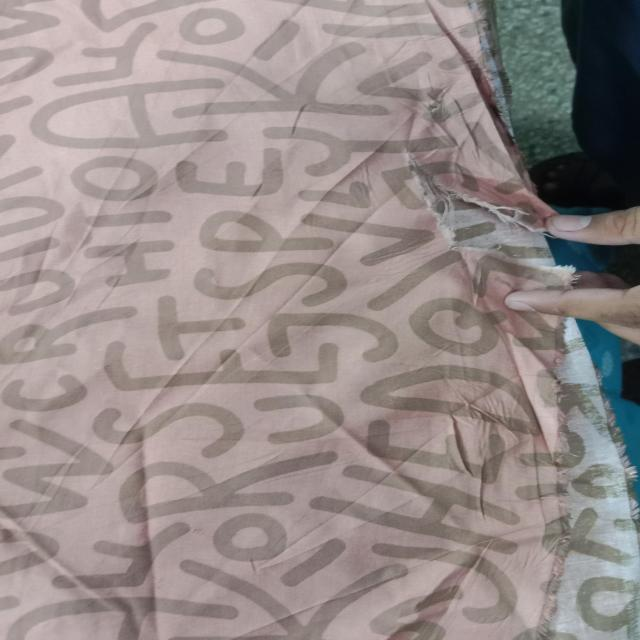cut: (401, 140, 593, 284)
